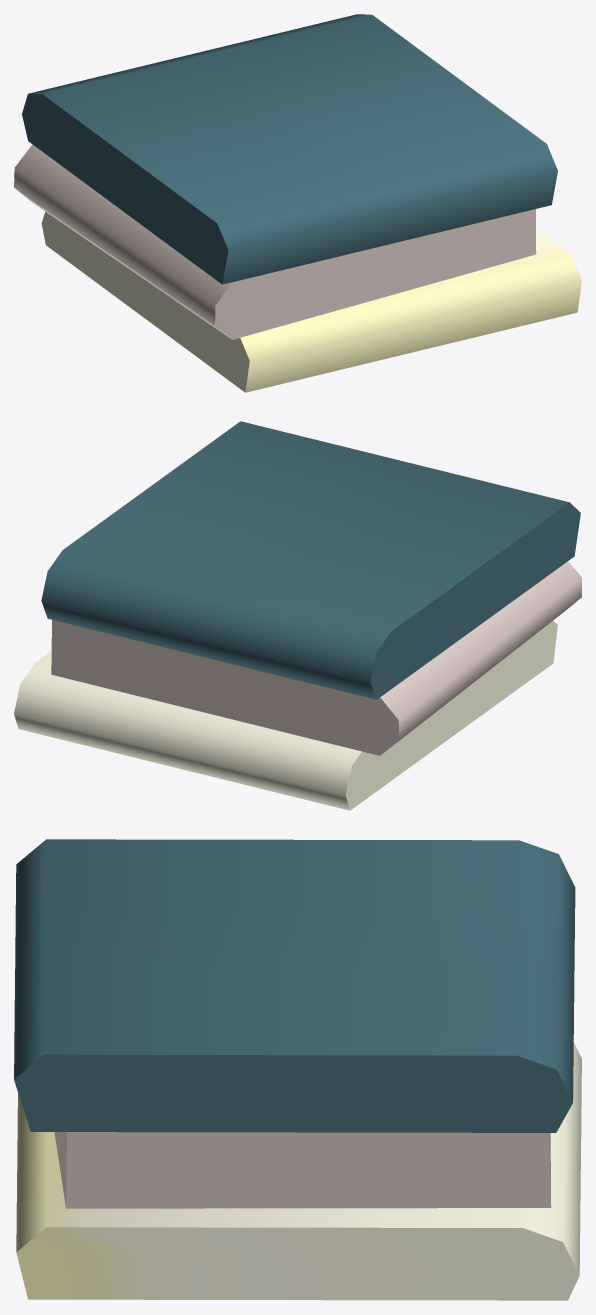
The model's file is shop_048.glb.
3 renders of one model, top to bottom at view 1: azimuth 30°, elevation 25°; view 2: azimuth 150°, elevation 25°; view 3: azimuth 270°, elevation 25°, orthographic. The views are drawn at different scales.
Visible parts, largest first — view 1: shop_048; view 2: shop_048; view 3: shop_048.
Boxes of the visible parts, x1,y1,x2,y2 form: shop_048: (14,14,581,392); shop_048: (14,421,581,810); shop_048: (14,839,581,1300).
Bounding box in the file's own units: 0.4103 × 0.1796 × 0.4043.
1 material, 1 textured.
